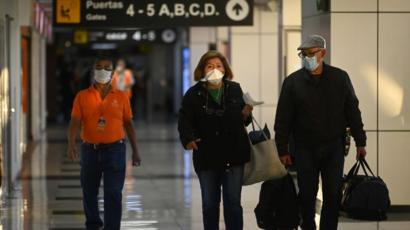with_mask: (297, 37, 326, 70), (199, 55, 229, 85), (91, 58, 114, 86), (115, 58, 128, 72)
